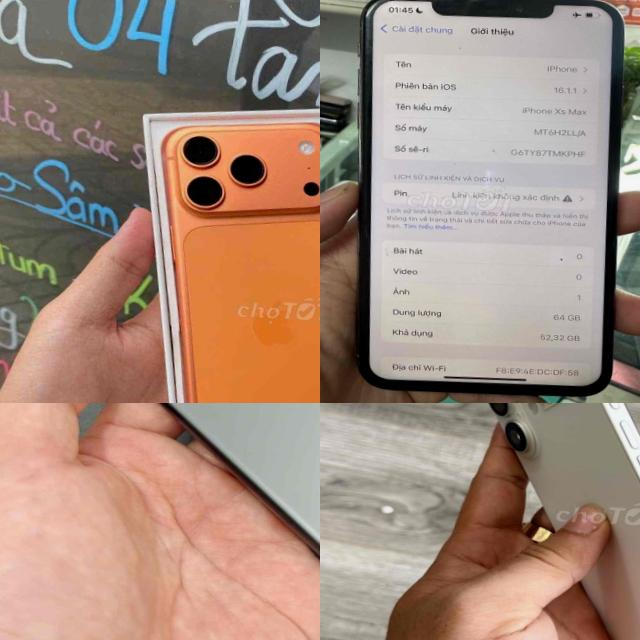gen_17: (142, 116, 320, 403), (452, 403, 640, 640)
gen_x_xs: (340, 0, 633, 403)
